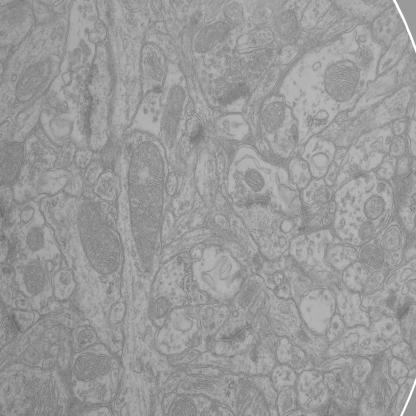mitochondria: (128, 139, 166, 276), (73, 200, 124, 275), (323, 56, 362, 104), (14, 56, 53, 102), (160, 83, 187, 148), (70, 349, 112, 384), (233, 380, 271, 416), (193, 18, 231, 53), (20, 258, 47, 298), (273, 7, 301, 42), (358, 240, 387, 270), (262, 100, 287, 134), (364, 191, 388, 224), (24, 223, 46, 254), (244, 164, 266, 194), (150, 294, 172, 322)
